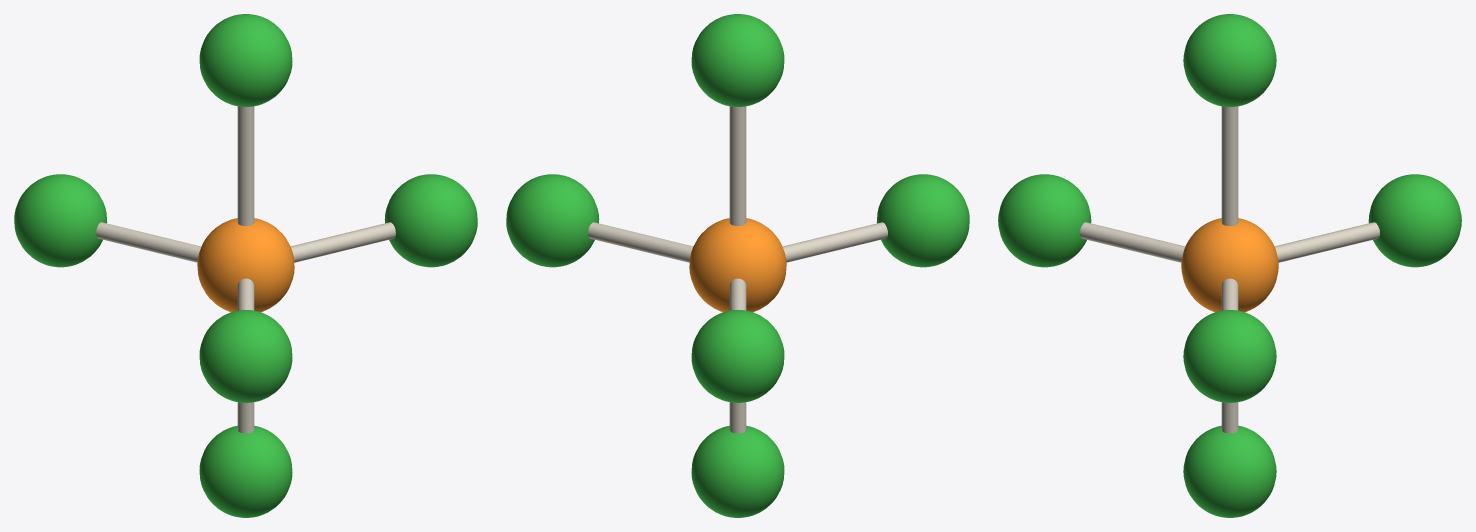
Rendered from pcl5.glb.
3 views of the same model, side by side, from view 1: azimuth 30°, elevation 25°; view 2: azimuth 150°, elevation 25°; view 3: azimuth 270°, elevation 25° (orthographic).
Visible parts, largest first — view 1: Cl_1, Cl_4, P_0, Cl_2, Cl_5, Cl_3, bond_0, bond_2, bond_4, bond_1, bond_3; view 2: Cl_1, Cl_5, P_0, Cl_2, Cl_4, Cl_3, bond_0, bond_2, bond_3, bond_1, bond_4; view 3: Cl_1, Cl_3, P_0, Cl_2, Cl_4, Cl_5, bond_0, bond_3, bond_4, bond_1, bond_2.
Part boxes in pixels (x1,y1,x2,y2): Cl_1: (199,14,292,106); Cl_4: (199,310,292,402); P_0: (197,218,294,312); Cl_2: (199,425,292,517); Cl_5: (14,174,107,267); Cl_3: (384,174,477,267); bond_0: (237,106,254,225); bond_2: (290,222,395,262); bond_4: (96,222,201,262); bond_1: (237,402,254,433); bond_3: (237,278,254,310); Cl_1: (691,14,784,106); Cl_5: (691,310,784,402); P_0: (689,218,786,312); Cl_2: (691,425,784,517); Cl_4: (876,174,969,267); Cl_3: (506,174,599,267); bond_0: (729,106,746,225); bond_2: (588,222,693,262); bond_3: (782,222,887,262); bond_1: (729,402,746,433); bond_4: (729,278,746,310); Cl_1: (1183,14,1276,106); Cl_3: (1183,310,1276,402); P_0: (1181,218,1278,312); Cl_2: (1183,425,1276,517); Cl_4: (998,174,1091,267); Cl_5: (1368,174,1461,267); bond_0: (1221,106,1238,225); bond_3: (1080,222,1185,262); bond_4: (1274,222,1379,262); bond_1: (1221,402,1238,433); bond_2: (1221,278,1238,310).
Bounding box in the file's own units: 0.9775 × 1.29 × 1.09.
